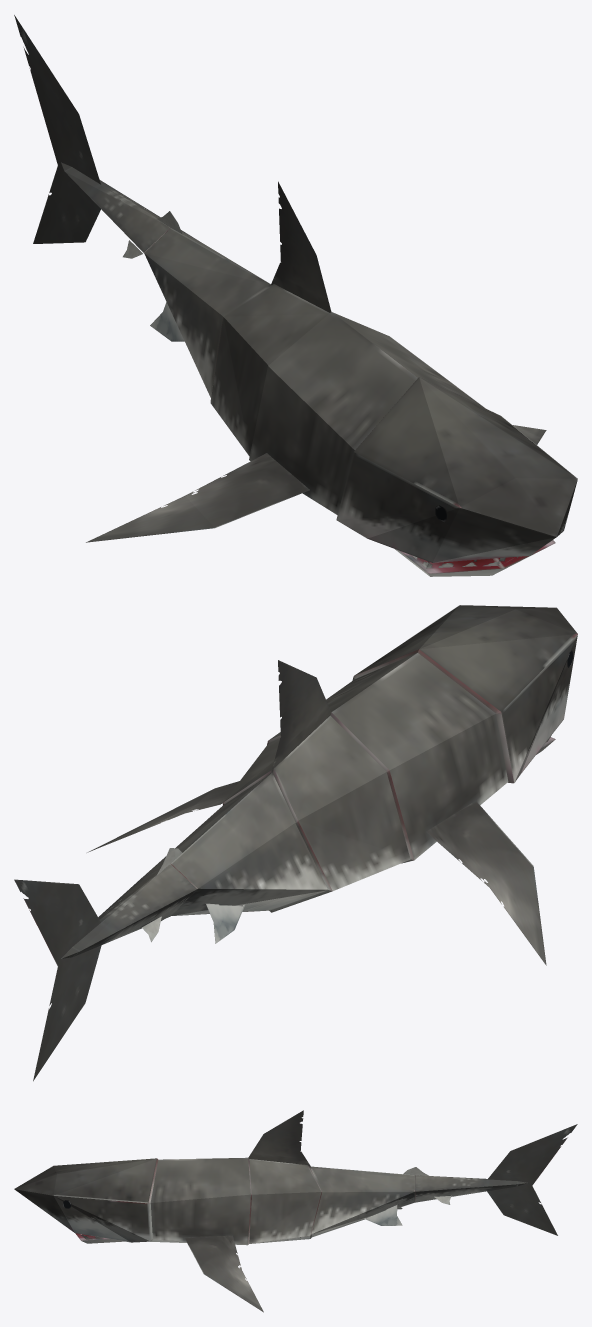
Rendered from SK_Great_White_Shark.obj.
The picture shows the model from 3 angles, top to bottom: view 1: azimuth 30°, elevation 25°; view 2: azimuth 150°, elevation 25°; view 3: azimuth 270°, elevation 25°; orthographic projection. The views are drawn at different scales.
Parts seen in each view (by area): view 1: Head, Torso, Abdomen, TailEnd, TailStart, PectoralFin_R, Jaw; view 2: Torso, Abdomen, Head, TailStart, TailEnd, PectoralFin_R, PectoralFin_L; view 3: Head, Torso, Abdomen, TailEnd, TailStart, PectoralFin_L.
Boxes of the visible parts, x1,y1,x2,y2 form: Head: [336, 377, 577, 562]; Torso: [249, 312, 485, 514]; Abdomen: [210, 181, 331, 456]; TailEnd: [14, 15, 196, 258]; TailStart: [144, 228, 271, 397]; PectoralFin_R: [86, 453, 309, 542]; Jaw: [395, 540, 555, 576]; Torso: [267, 653, 508, 863]; Abdomen: [223, 660, 410, 912]; Head: [352, 605, 577, 783]; TailStart: [144, 772, 327, 943]; TailEnd: [14, 848, 196, 1081]; PectoralFin_R: [426, 800, 546, 965]; PectoralFin_L: [87, 781, 239, 852]; Head: [14, 1158, 158, 1242]; Torso: [150, 1157, 251, 1245]; Abdomen: [248, 1110, 321, 1243]; TailEnd: [403, 1124, 577, 1235]; TailStart: [309, 1166, 414, 1237]; PectoralFin_L: [184, 1235, 263, 1312].
Bounding box in the file's own units: 3.35 × 1.93 × 6.83.
